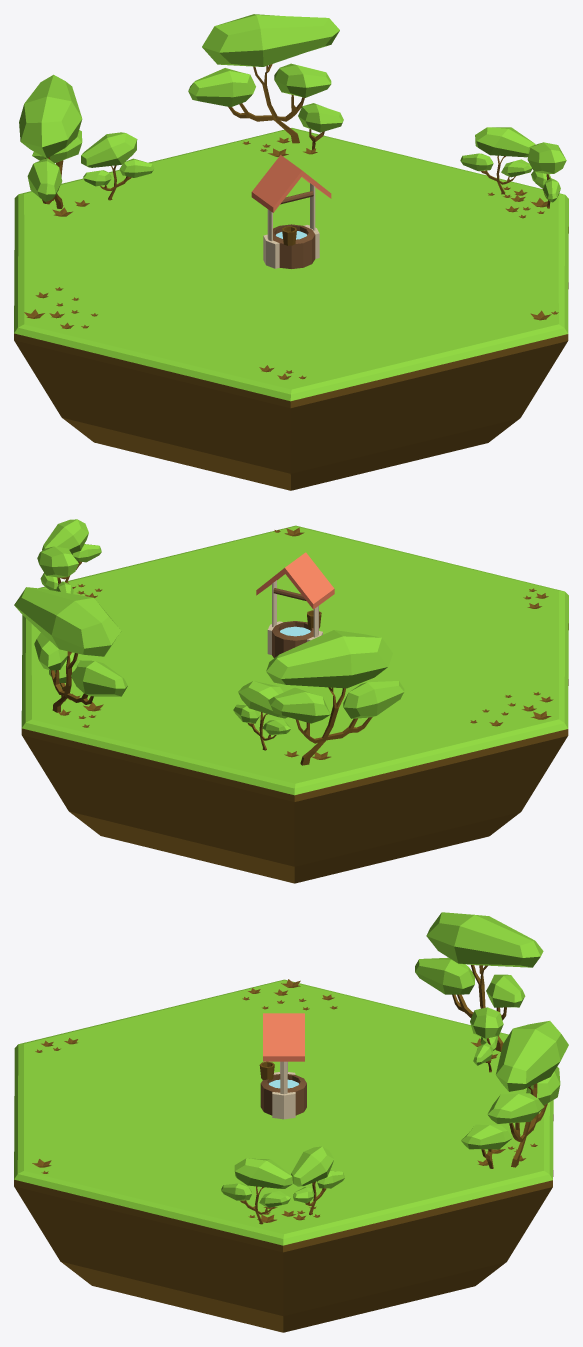
File: Asset_Biome_Plain_03.fbx
3 renders of one model, top to bottom at view 1: azimuth 30°, elevation 25°; view 2: azimuth 150°, elevation 25°; view 3: azimuth 270°, elevation 25°, orthographic. The views are drawn at different scales.
Visible parts, largest first — view 1: Asset_Tile_Plain, Asset_Tree_Plain_01, Asset_Tree_Plain_08, structure_puit, Asset_Tree_Plain_02, Asset_Tree_Plain_010, Asset_Tree_Plain_09, Asset_Tree_Plain_04; view 2: Asset_Tile_Plain, Asset_Tree_Plain_08, Asset_Tree_Plain_01, structure_puit, Asset_Tree_Plain_02, Asset_Tree_Plain_09, Asset_Tree_Plain_010; view 3: Asset_Tile_Plain, Asset_Tree_Plain_08, Asset_Tree_Plain_01, structure_puit, Asset_Tree_Plain_09, Asset_Tree_Plain_010, Asset_Tree_Plain_02, Asset_Tree_Plain_04.
Boxes of the visible parts, x1=… form: Asset_Tile_Plain: x1=14, y1=128, x2=568, y2=490; Asset_Tree_Plain_01: x1=188, y1=14, x2=339, y2=143; Asset_Tree_Plain_08: x1=19, y1=74, x2=82, y2=208; structure_puit: x1=251, y1=155, x2=331, y2=268; Asset_Tree_Plain_02: x1=81, y1=132, x2=154, y2=200; Asset_Tree_Plain_010: x1=460, y1=127, x2=535, y2=194; Asset_Tree_Plain_09: x1=527, y1=142, x2=566, y2=208; Asset_Tree_Plain_04: x1=298, y1=103, x2=343, y2=149; Asset_Tile_Plain: x1=21, y1=525, x2=568, y2=883; Asset_Tree_Plain_08: x1=266, y1=630, x2=404, y2=765; Asset_Tree_Plain_01: x1=14, y1=587, x2=127, y2=712; structure_puit: x1=256, y1=552, x2=334, y2=657; Asset_Tree_Plain_02: x1=233, y1=681, x2=290, y2=750; Asset_Tree_Plain_09: x1=42, y1=519, x2=101, y2=582; Asset_Tree_Plain_010: x1=37, y1=546, x2=78, y2=593; Asset_Tile_Plain: x1=14, y1=979, x2=553, y2=1332; Asset_Tree_Plain_08: x1=415, y1=912, x2=543, y2=1051; Asset_Tree_Plain_01: x1=487, y1=1021, x2=568, y2=1167; structure_puit: x1=260, y1=1013, x2=306, y2=1119; Asset_Tree_Plain_09: x1=221, y1=1158, x2=292, y2=1224; Asset_Tree_Plain_010: x1=291, y1=1146, x2=344, y2=1215; Asset_Tree_Plain_02: x1=470, y1=1007, x2=503, y2=1072; Asset_Tree_Plain_04: x1=461, y1=1124, x2=512, y2=1168.
Size of the model in its own units: 436 by 206 by 389.
